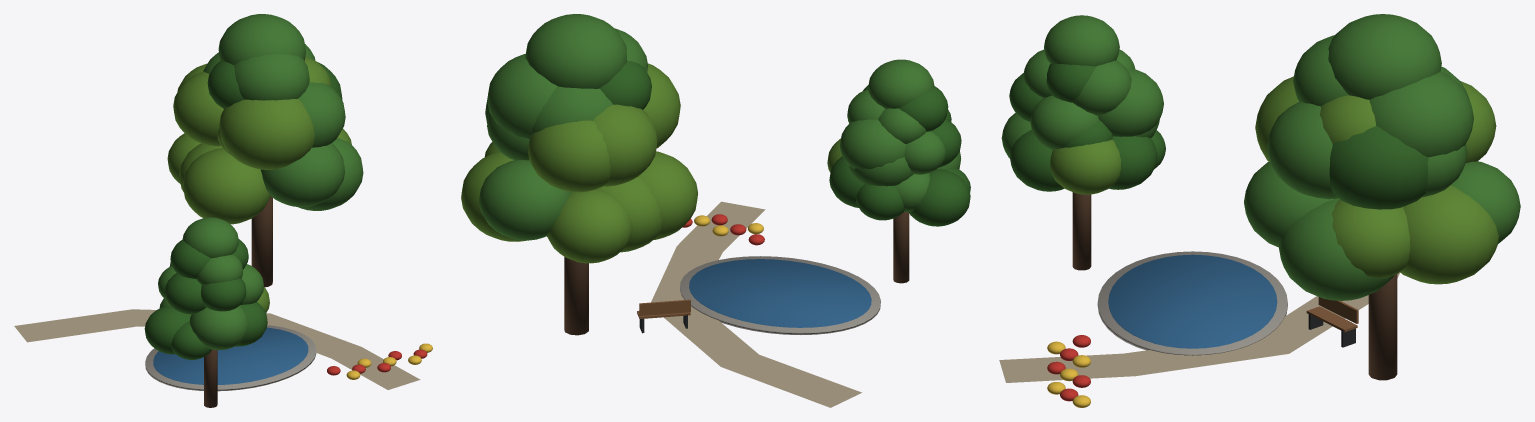
The model's file is praca1.glb.
3 renders of one model, left to right at view 1: azimuth 30°, elevation 25°; view 2: azimuth 150°, elevation 25°; view 3: azimuth 270°, elevation 25°, orthographic. The views are drawn at different scales.
Parts seen in each view (by area): view 1: copa.012, caminho, copa.005, lago_agua, copa.006, copa_topo, copa.017, copa.010, copa.013, copa.026, copa_topo.001, lago_margem (+15 smaller); view 2: lago_agua, caminho, copa_topo, copa.002, copa.009, copa.003, copa.019, copa.010, copa.005, lago_margem, copa.028, copa_topo.001 (+20 smaller); view 3: lago_agua, copa_topo, copa.001, caminho, copa.014, copa.019, copa.007, copa.013, copa, copa.006, lago_margem, copa_topo.001 (+21 smaller).
Part boxes in pixels (<box>): copa.012: <box>219,99,314,169</box>; caminho: <box>14,309,420,389</box>; copa.005: <box>183,148,270,224</box>; lago_agua: <box>153,327,308,384</box>; copa.006: <box>260,143,344,207</box>; copa_topo: <box>218,14,305,64</box>; copa.017: <box>234,54,309,100</box>; copa.010: <box>173,71,223,146</box>; copa.013: <box>298,82,345,147</box>; copa.026: <box>189,305,247,350</box>; copa_topo.001: <box>182,217,238,258</box>; lago_margem: <box>145,325,316,391</box>; lago_agua: <box>689,259,871,327</box>; caminho: <box>651,201,861,407</box>; copa_topo: <box>525,14,627,88</box>; copa.002: <box>479,160,571,240</box>; copa.009: <box>528,120,610,192</box>; copa.003: <box>547,189,632,263</box>; copa.019: <box>487,54,557,138</box>; copa.010: <box>593,104,657,186</box>; copa.005: <box>638,151,697,239</box>; lago_margem: <box>680,256,880,334</box>; copa.028: <box>840,119,906,169</box>; copa_topo.001: <box>868,59,934,108</box>; lago_agua: <box>1108,254,1277,348</box>; copa_topo: <box>1328,14,1441,99</box>; copa.001: <box>1400,185,1498,284</box>; caminho: <box>999,272,1400,382</box>; copa.014: <box>1329,126,1428,209</box>; copa.019: <box>1369,71,1473,157</box>; copa.007: <box>1278,198,1394,300</box>; copa.013: <box>1267,101,1338,199</box>; copa: <box>1332,199,1410,278</box>; copa.006: <box>1244,161,1333,247</box>; lago_margem: <box>1097,251,1287,355</box>; copa_topo.001: <box>1044,15,1119,66</box>.
Size of the model in its own units: 11.68 by 9.23 by 12.34.
